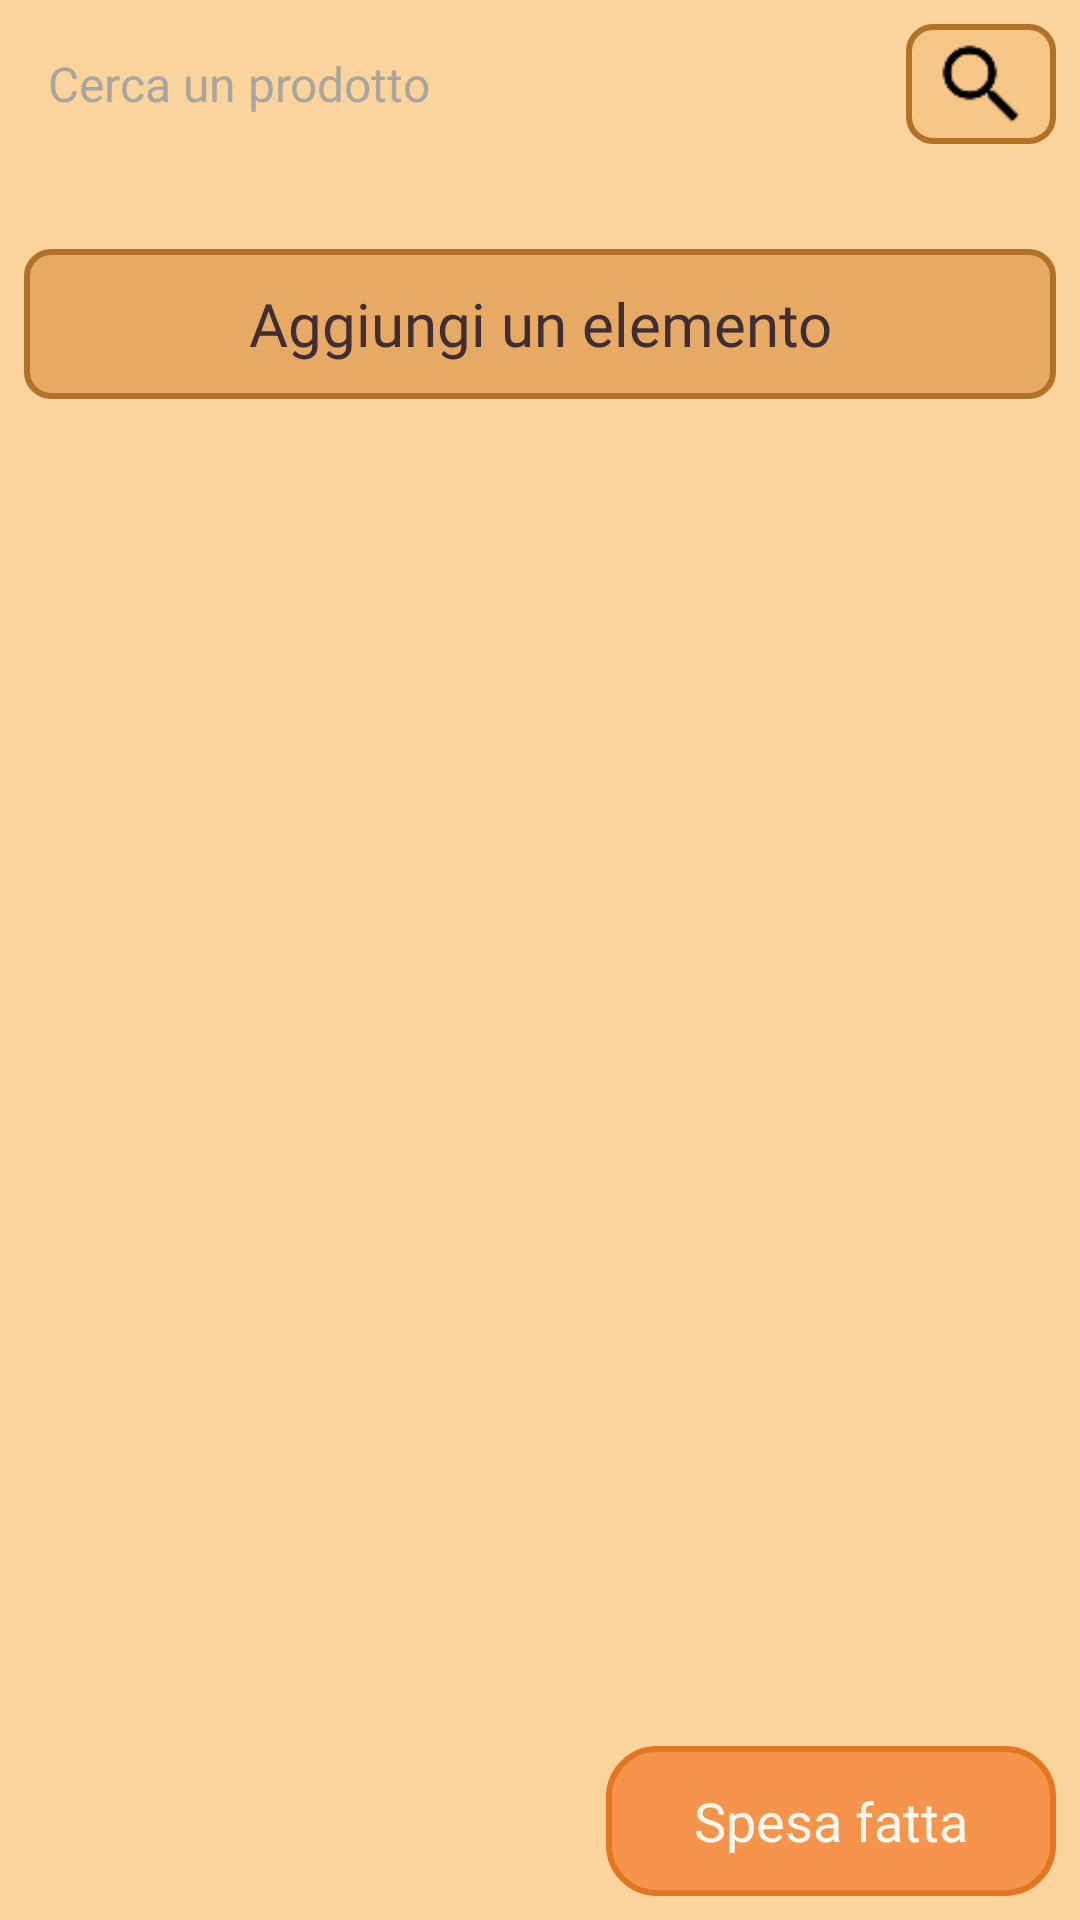

Locate icon controls on the screen. Image size 1080*1920, boxes as detection(x1, y1, x2, y2).
search: detection(942, 45, 1019, 122)
